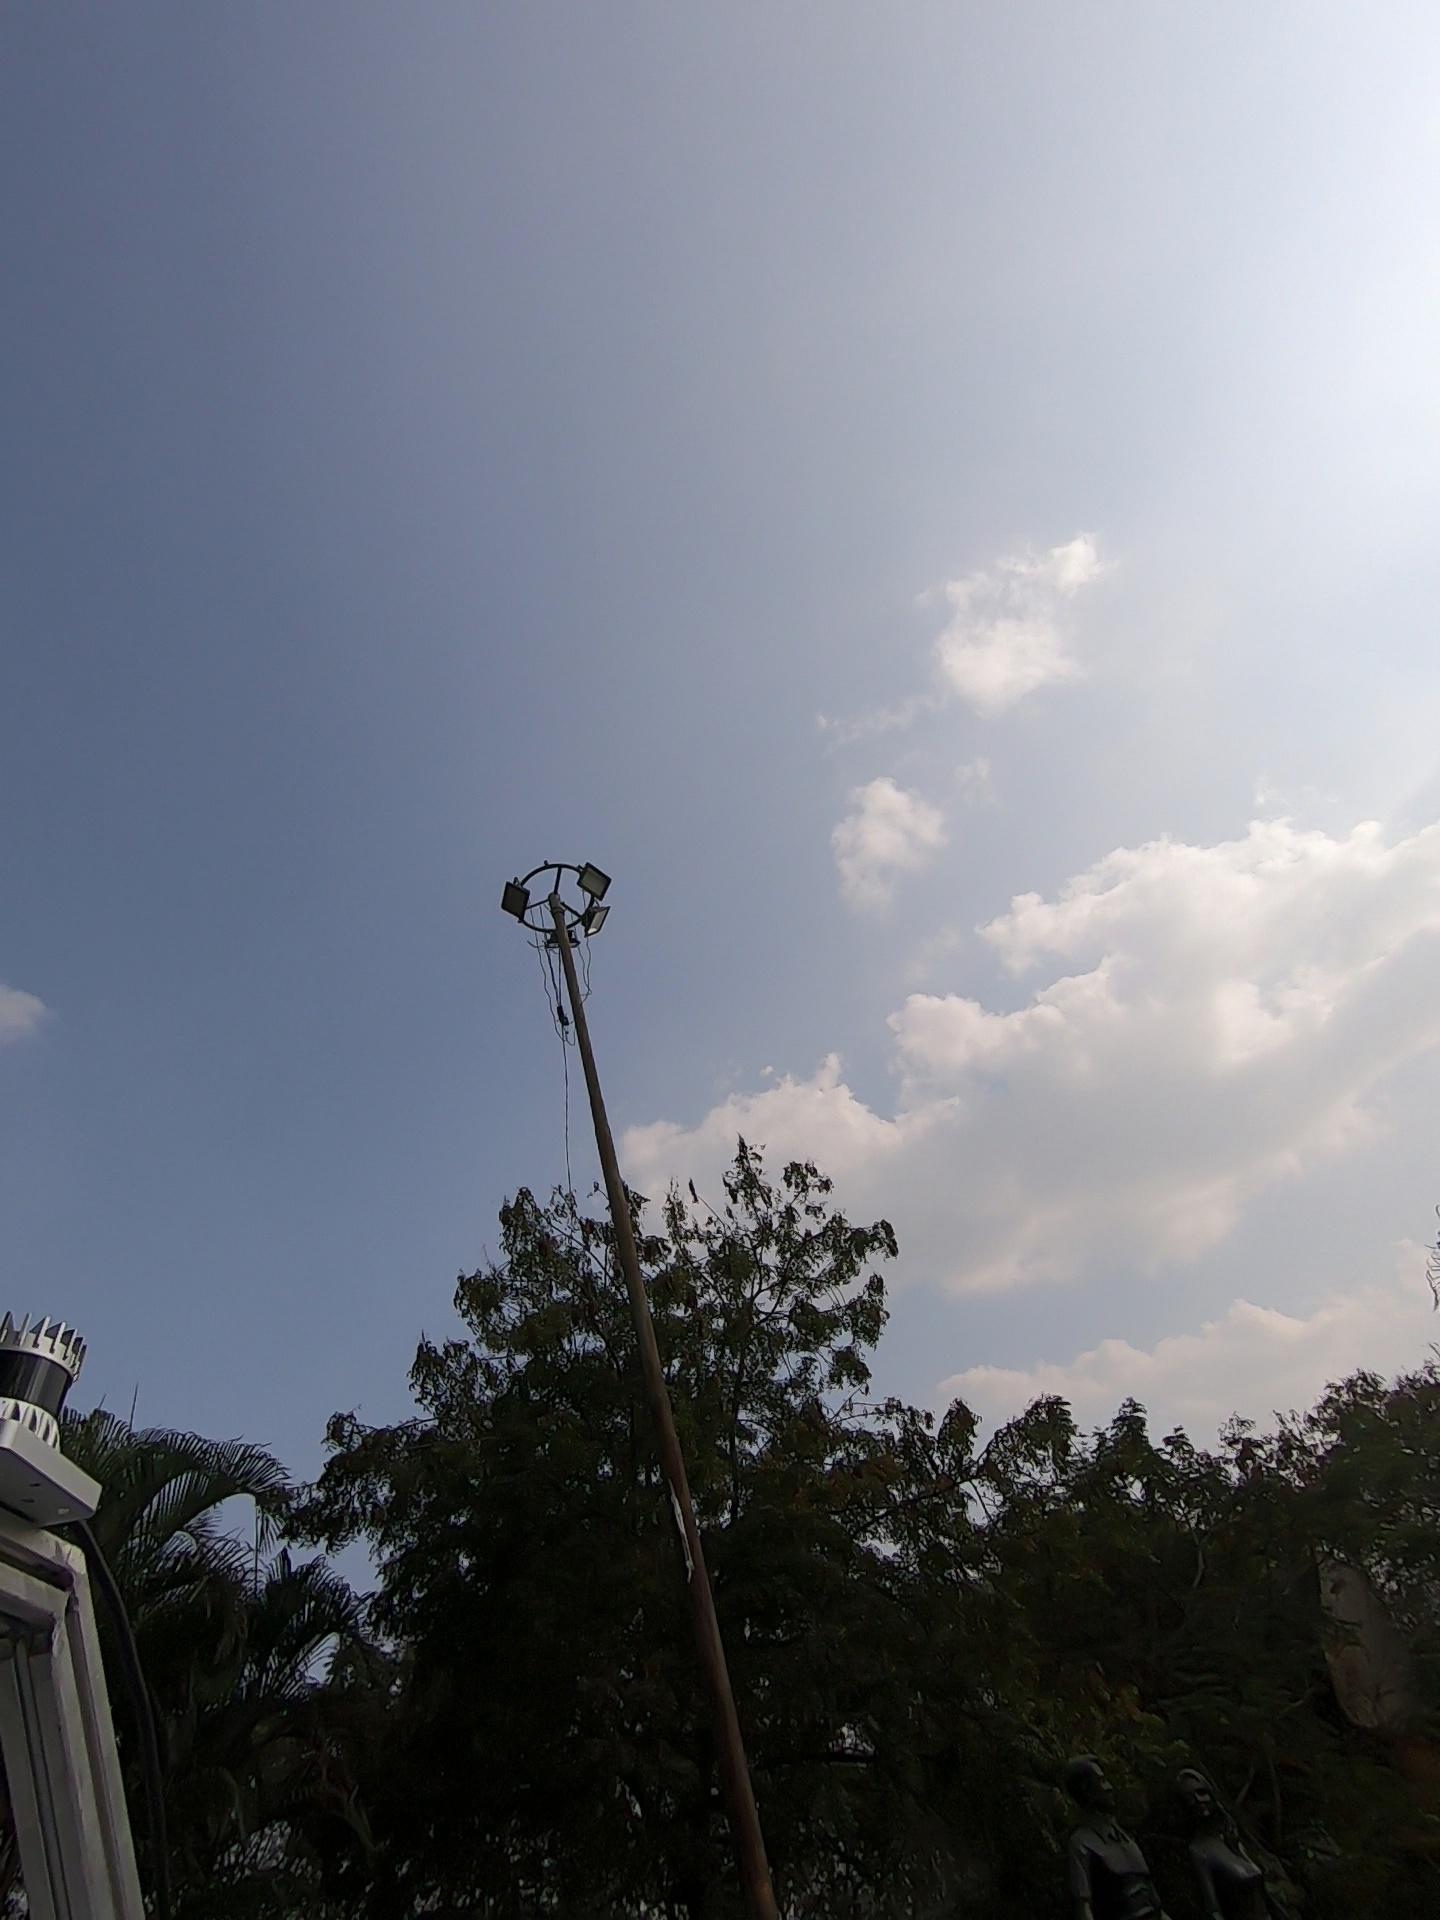off: (486, 801, 703, 1072)
